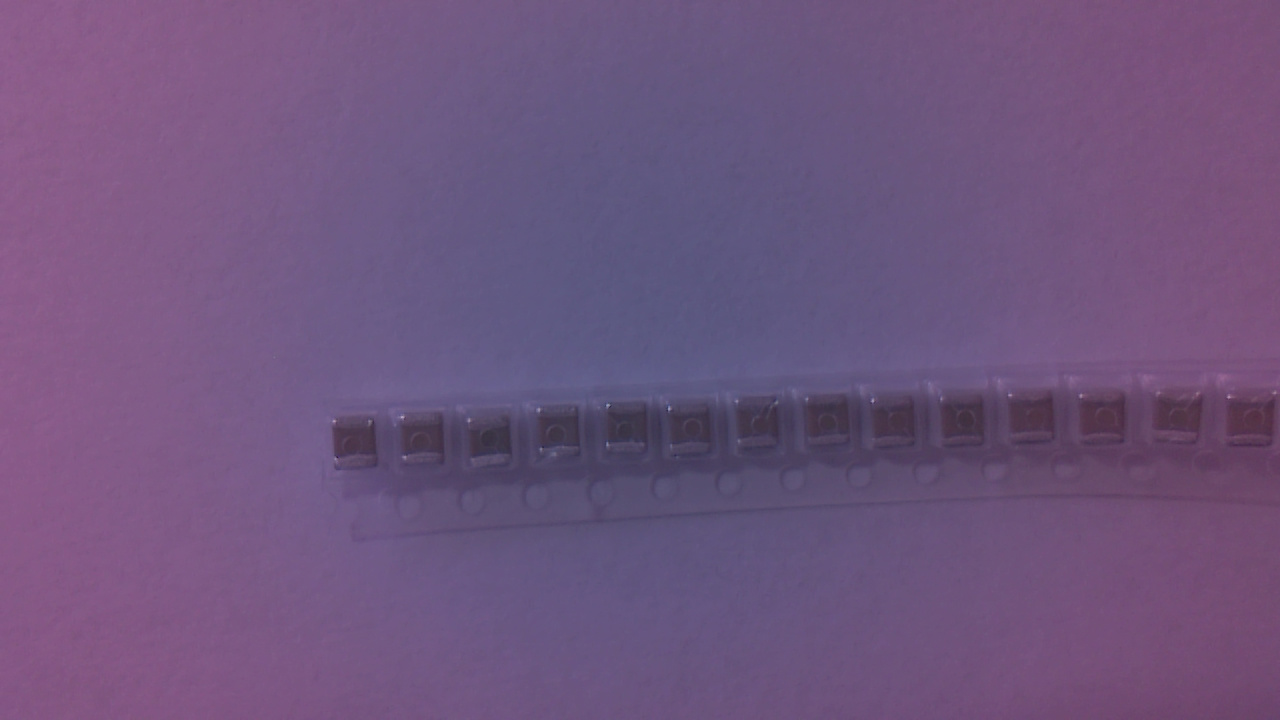Condensator: (805, 396, 858, 456), (1157, 392, 1210, 449), (1012, 391, 1061, 451), (673, 404, 721, 465), (945, 394, 991, 457), (1083, 393, 1132, 450), (874, 396, 921, 454), (738, 397, 784, 456), (402, 416, 451, 471), (1231, 396, 1277, 454), (338, 420, 383, 475), (541, 411, 588, 463), (609, 404, 652, 460), (471, 418, 516, 470)
